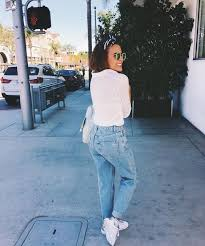person: (82, 35, 134, 98)
